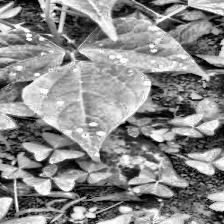Bean Rust: (24, 60, 150, 165), (78, 18, 206, 78), (0, 0, 147, 38), (0, 29, 65, 84)
